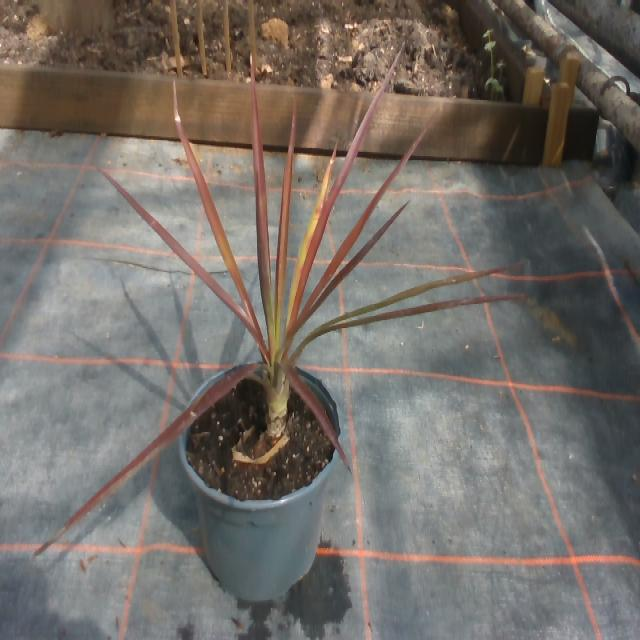Yucca-aloifolia: (32, 365, 256, 559), (293, 115, 434, 328), (291, 51, 401, 321), (101, 169, 260, 341), (174, 83, 264, 345), (299, 263, 523, 351), (310, 203, 407, 312), (310, 296, 525, 337), (287, 145, 336, 321), (252, 57, 274, 355), (283, 364, 342, 453), (275, 104, 296, 341)
